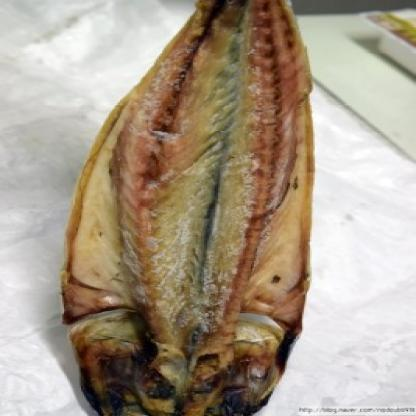Peixe: (54, 0, 333, 416)
